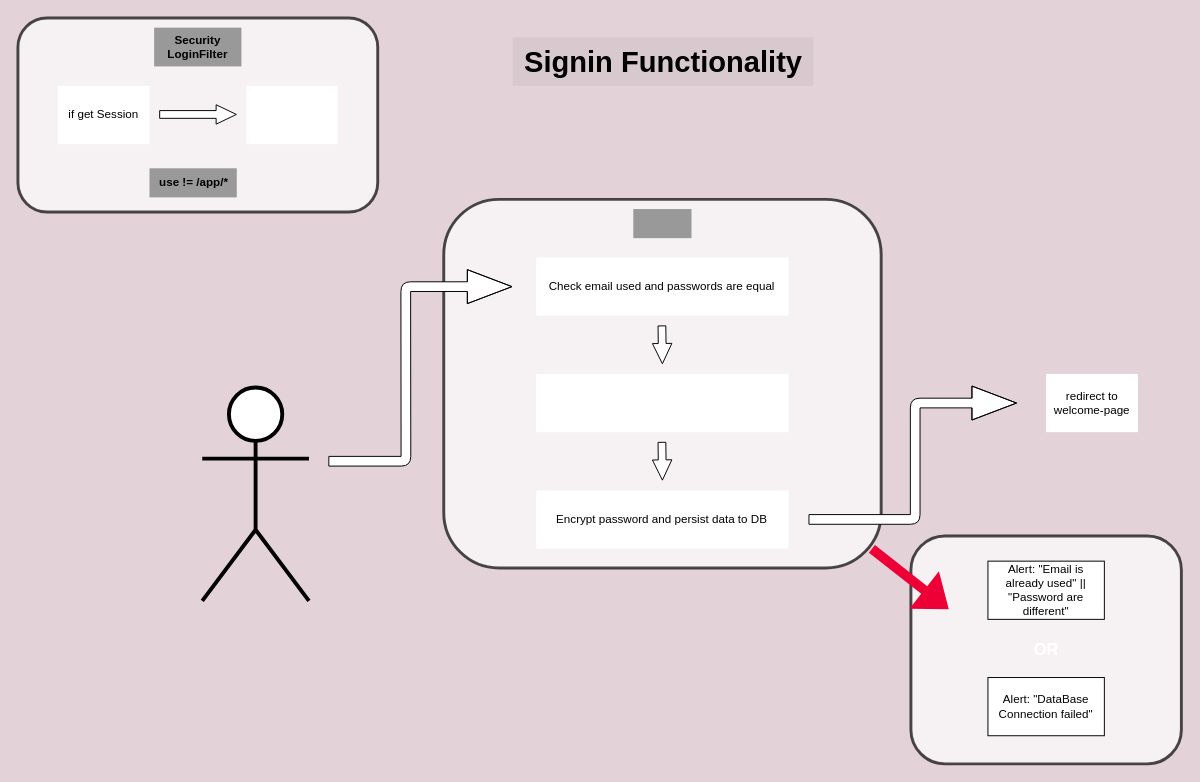
Some shapes in this 1200 by 782 pixel diagram are drawn without their labels. Here are the shapes that lost their labels. From the top down, the box of each, then its label:
(246, 85, 337, 144): redirect to main-dashboard
(633, 209, 691, 238): Sign in
(536, 373, 788, 432): Send request (username, email (unique), password)
(200, 385, 310, 602): Actor
